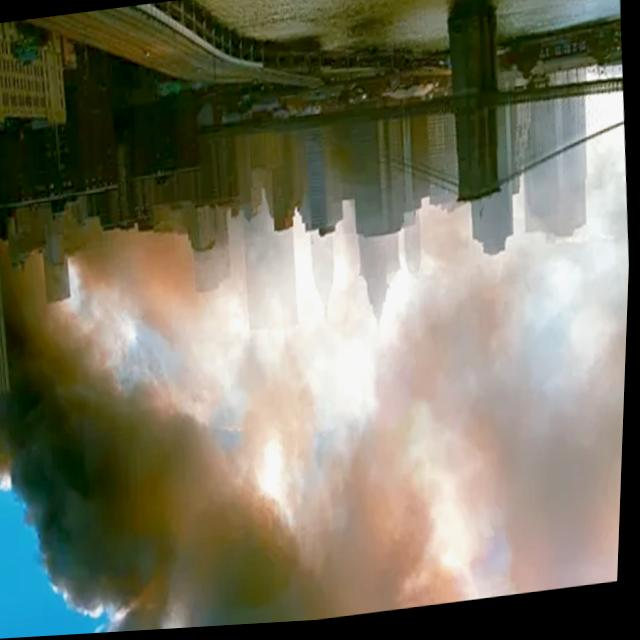Smoke: (0, 175, 634, 640)
